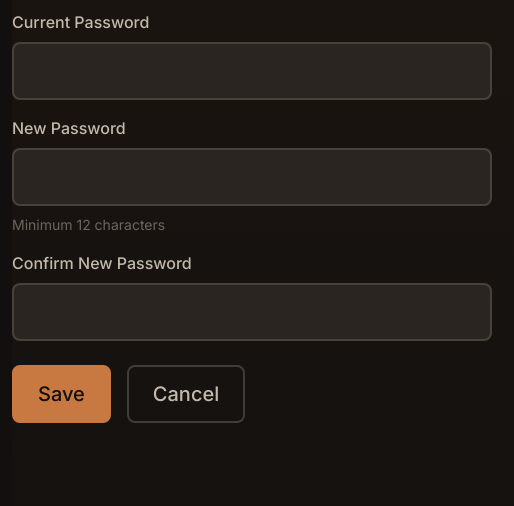
ChangePasswordForm server error › surfaces API error message
The width and height of the screenshot is (514, 506).
In the password field labelled "Current Password": (252, 71) [12,42,492,100], type "wrongoldpassword"
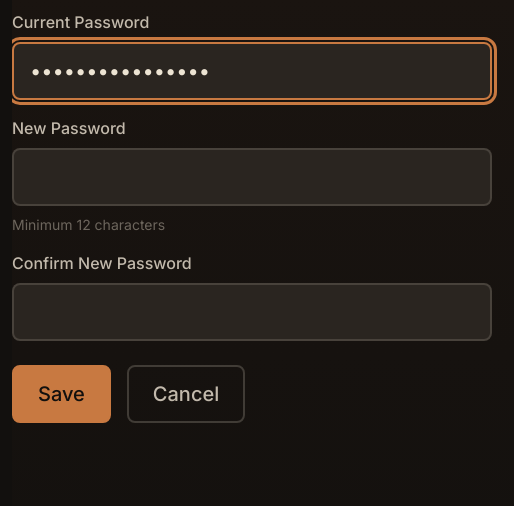
In the password field labelled "New Password": (252, 177) [12,148,492,206], type "validpassword123"
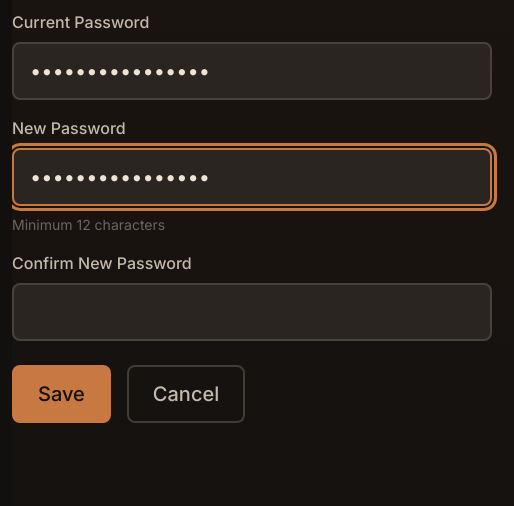
In the password field labelled "Confirm New Password": (252, 312) [12,283,492,341], type "validpassword123"
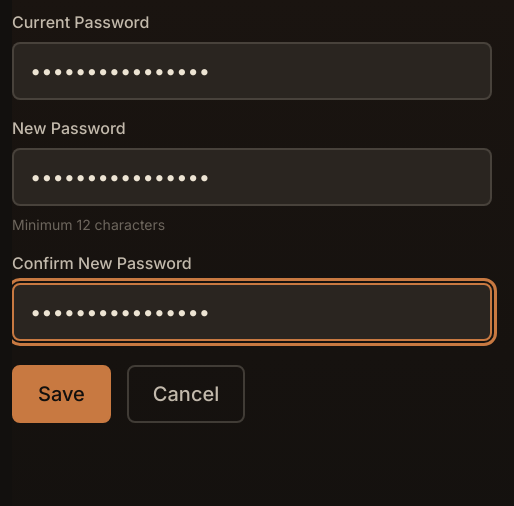
Click the button "Save": click(61, 394) [12,365,111,423]
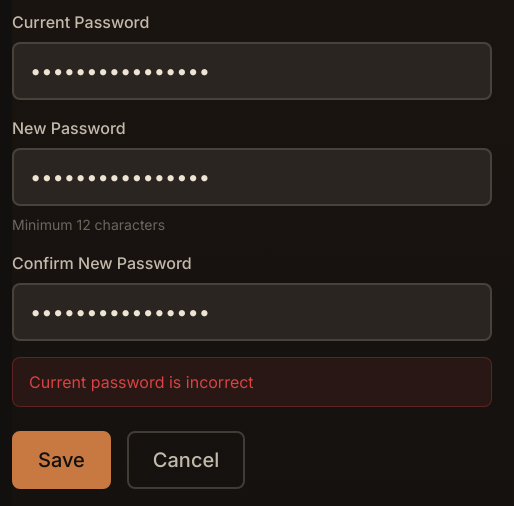
Expected: the text "Current password is incorrect" is shown, [12,357,492,407]
